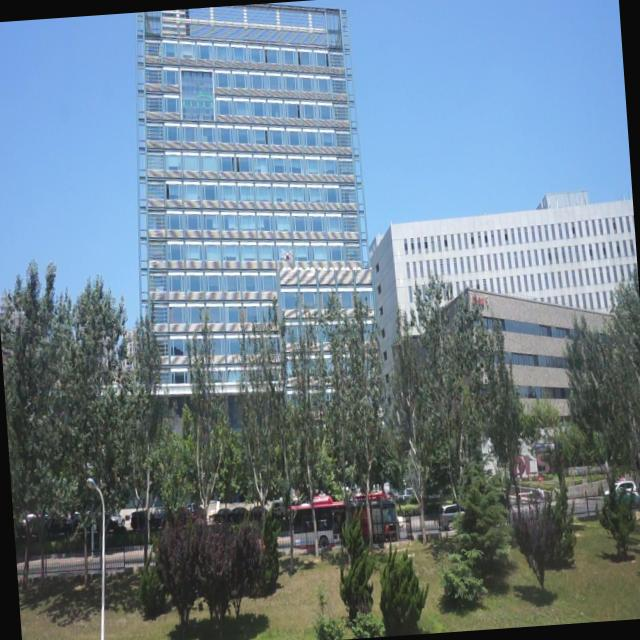drone: (279, 245, 294, 265)
